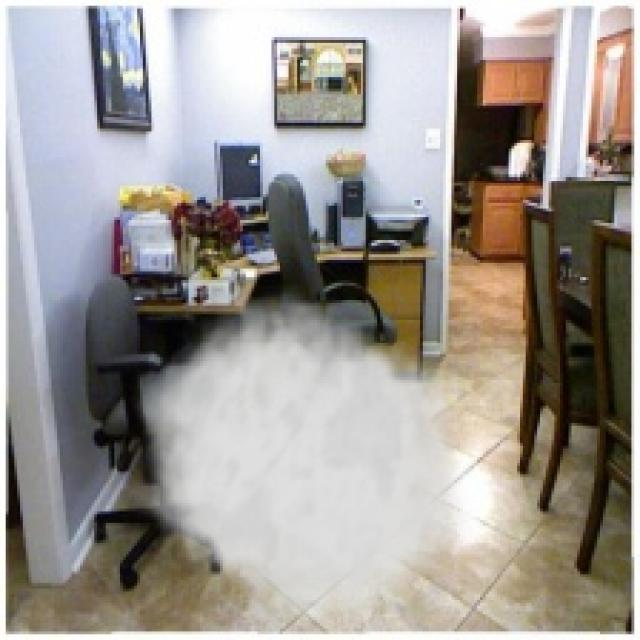smoke: (131, 283, 480, 631)
